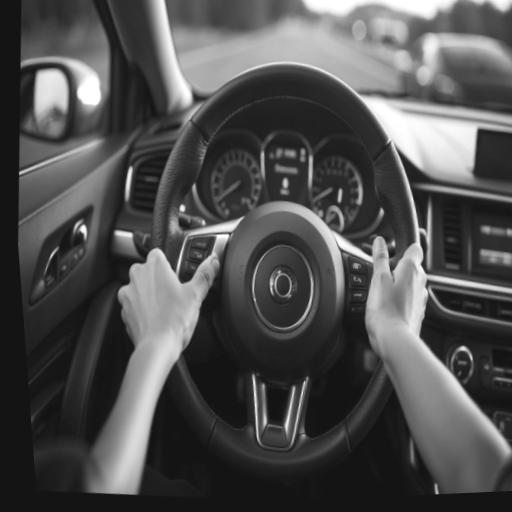Hands-on-the-Wheel: (91, 211, 254, 379), (336, 204, 461, 386)
